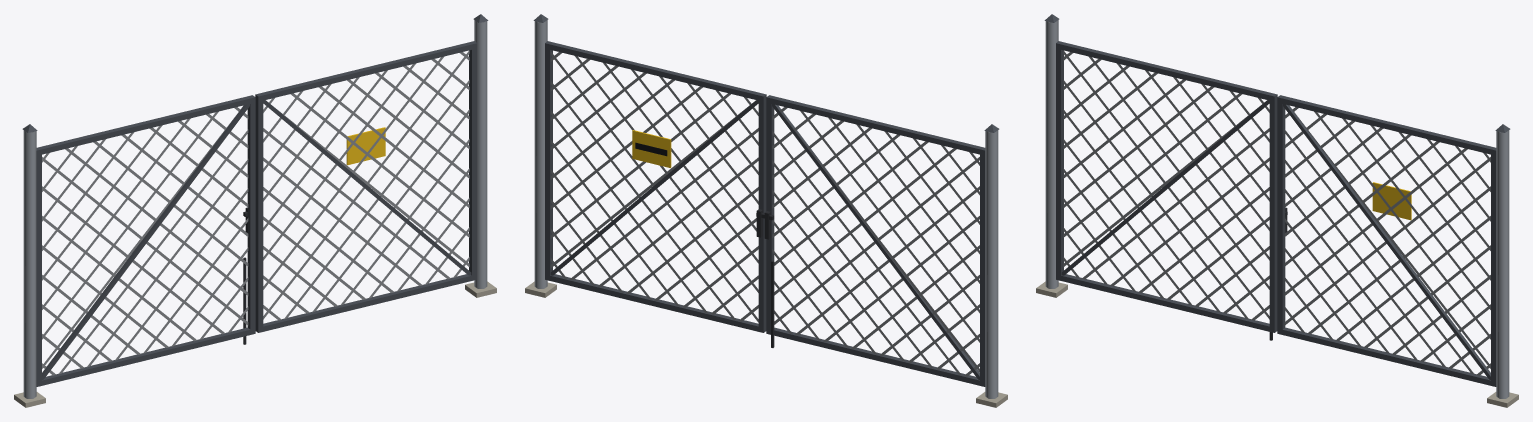
The model's file is gate_chain.glb.
3 renders of one model, left to right at view 1: azimuth 30°, elevation 25°; view 2: azimuth 150°, elevation 25°; view 3: azimuth 330°, elevation 25°, orthographic.
Parts seen in each view (by area): view 1: gate_chain__leaf_r, gate_chain__leaf_l, gate_chain__mesh; view 2: gate_chain__leaf_r, gate_chain__leaf_l, gate_chain__mesh; view 3: gate_chain__leaf_r, gate_chain__leaf_l, gate_chain__mesh.
Part boxes in pixels (x1,y1,x2,y2): gate_chain__leaf_r: [255, 41, 476, 332]; gate_chain__leaf_l: [36, 95, 255, 386]; gate_chain__mesh: [14, 14, 496, 407]; gate_chain__leaf_r: [545, 41, 766, 332]; gate_chain__leaf_l: [756, 95, 985, 386]; gate_chain__mesh: [525, 14, 1007, 407]; gate_chain__leaf_r: [1277, 95, 1496, 386]; gate_chain__leaf_l: [1056, 41, 1287, 340]; gate_chain__mesh: [1036, 14, 1518, 407].
Size of the model in its own units: 4.18 by 2.35 by 0.18.
1 material, 1 textured.
